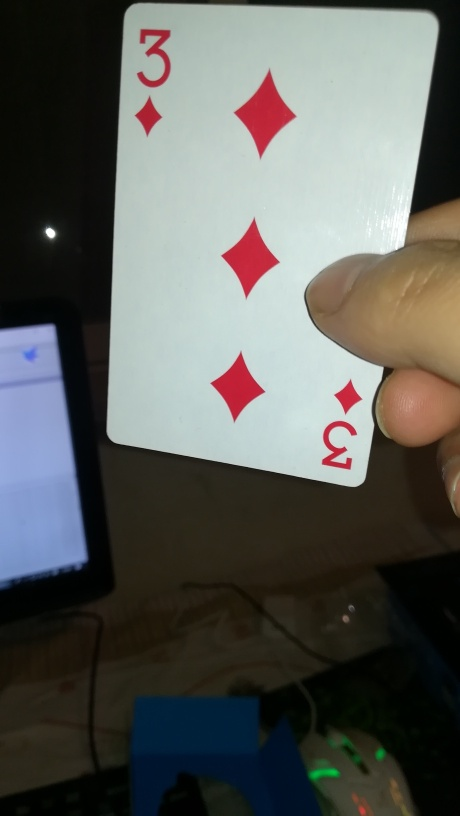fk 3: (101, 0, 440, 490)
